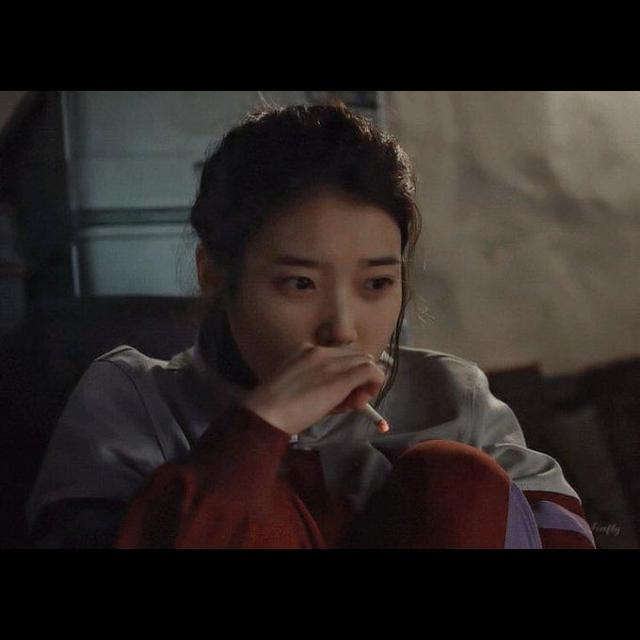rokok: (356, 396, 392, 432)
